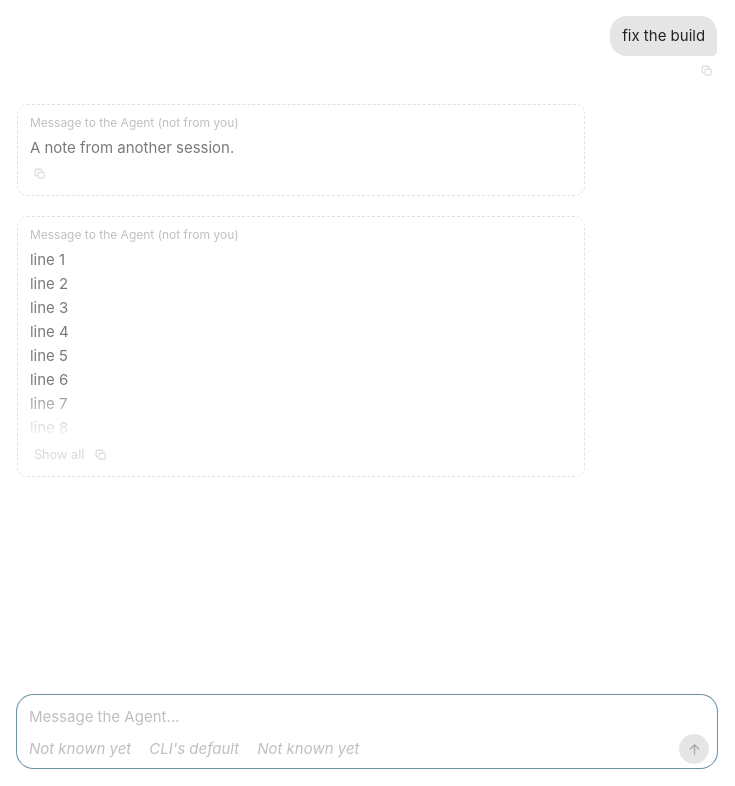
Test case: every entry kind › draws a message the Agent was given that the person did not send apart from theirs, folded when long
Expected: the element with class "conversation-user" is shown, [610, 16, 717, 81]
Expected: the element with class "conversation-other" shows "Message to the Agent (not from you)", [30, 227, 239, 242]
Click the button "Show all".
click(59, 455)  # box [30, 445, 88, 465]
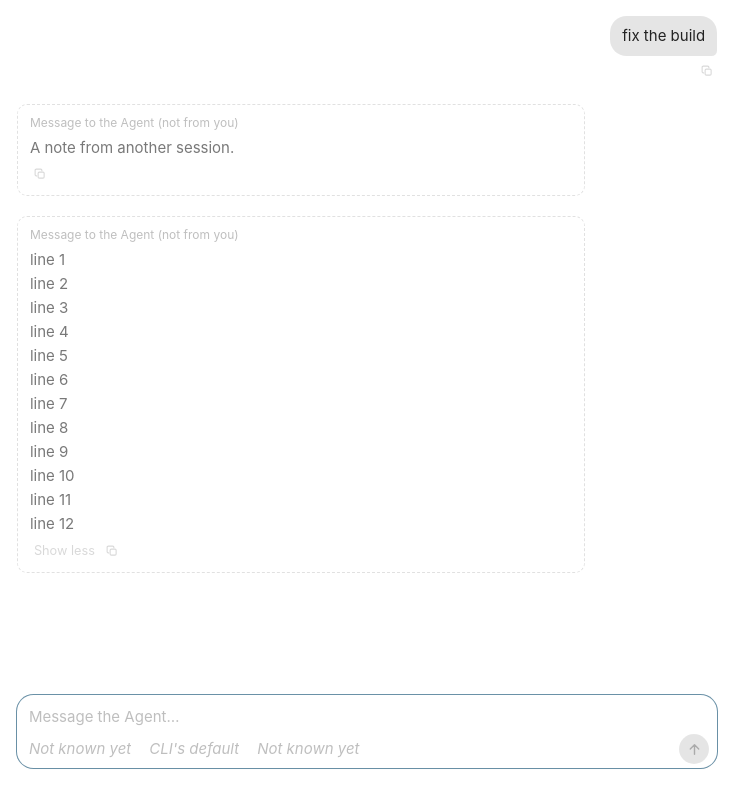
Expected: the element with class "conversation-other-text" shows "line 12", [30, 442, 75, 533]
Expected: the button "Show less" is expanded, [30, 541, 99, 561]
